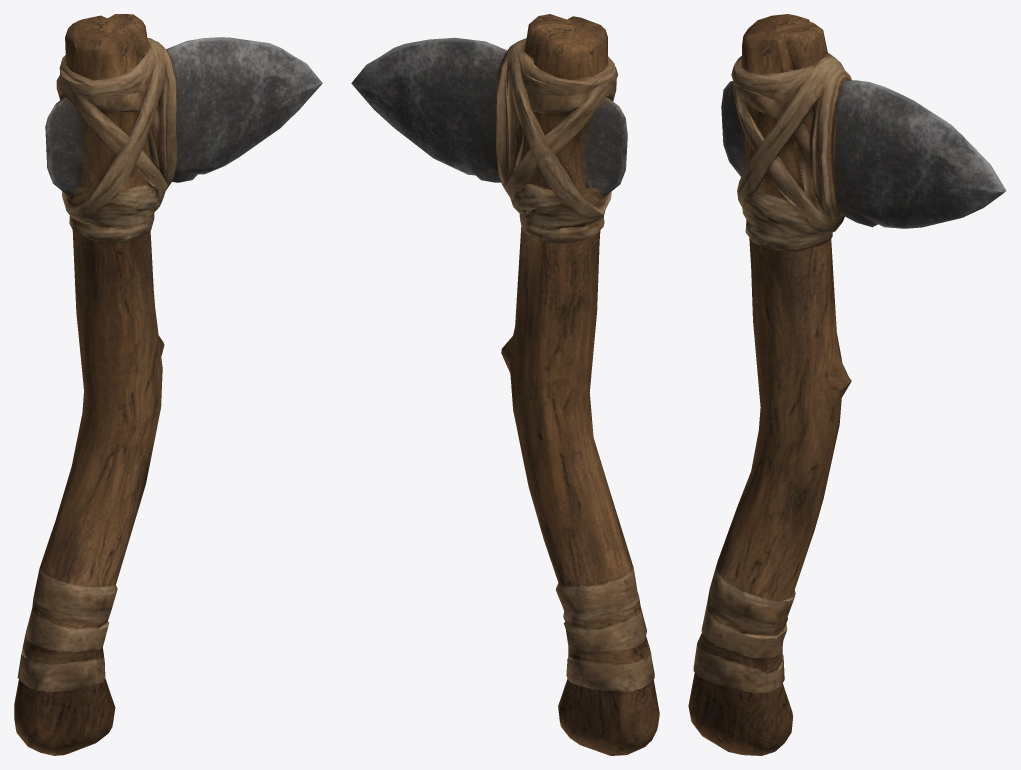
3 renders of one model, left to right at view 1: azimuth 30°, elevation 25°; view 2: azimuth 150°, elevation 25°; view 3: azimuth 330°, elevation 25°, orthographic. The views are drawn at different scales.
Visible parts, largest first — view 1: stone-axe; view 2: stone-axe; view 3: stone-axe.
Part boxes in pixels (left/top/right/bottom): stone-axe: left=14, top=14, right=322, bottom=755; stone-axe: left=351, top=14, right=659, bottom=755; stone-axe: left=688, top=14, right=1006, bottom=755.
Size of the model in its own units: 0.4169 by 0.9494 by 0.1153.
Materials: 1 (1 with a texture image).
